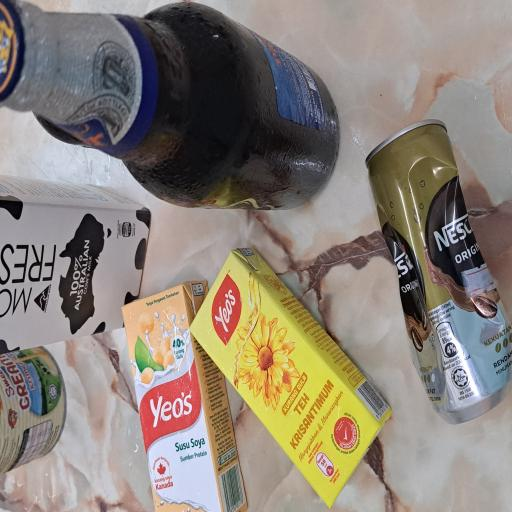can: (26, 0, 126, 86)
drink carton: (0, 249, 199, 512), (0, 164, 174, 333), (126, 0, 246, 203)
glass bottle: (227, 0, 384, 453)
